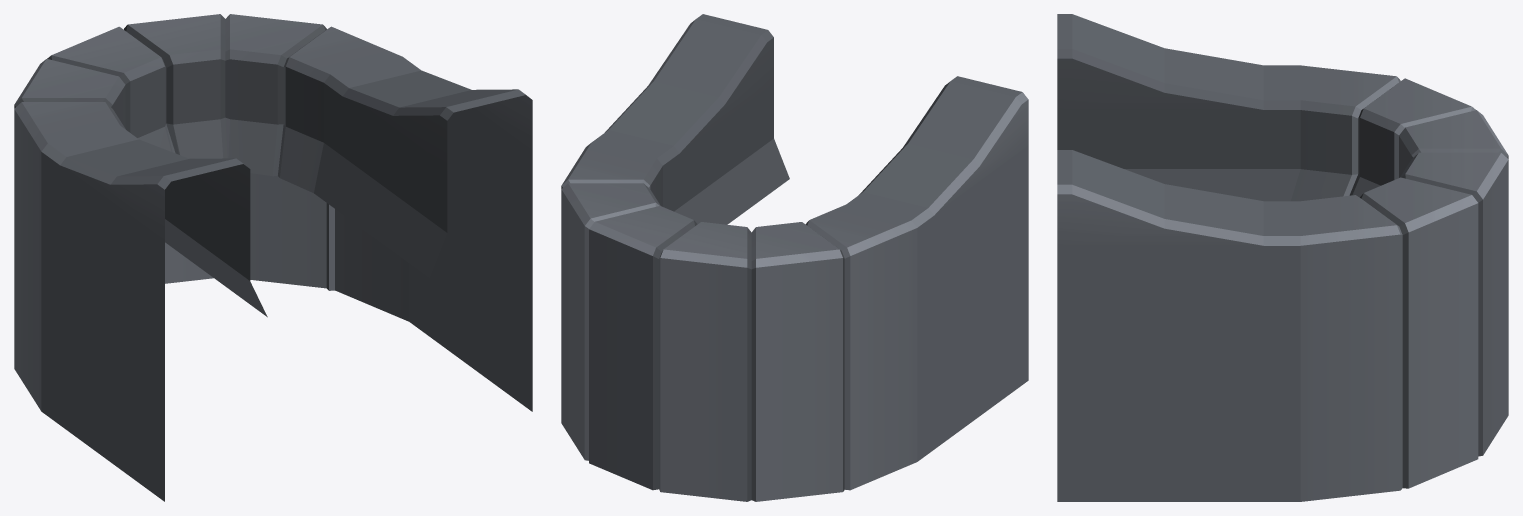
The model's file is Entrance 01.FBX.
3 renders of one model, left to right at view 1: azimuth 30°, elevation 25°; view 2: azimuth 150°, elevation 25°; view 3: azimuth 270°, elevation 25°, orthographic. The views are drawn at different scales.
Parts seen in each view (by area): view 1: Entrance 01; view 2: Entrance 01; view 3: Entrance 01.
Part boxes in pixels (x1=…): Entrance 01: x1=14, y1=14, x2=532, y2=501; Entrance 01: x1=561, y1=14, x2=1028, y2=501; Entrance 01: x1=1057, y1=14, x2=1508, y2=501.
Size of the model in its own units: 266 by 220 by 286.
